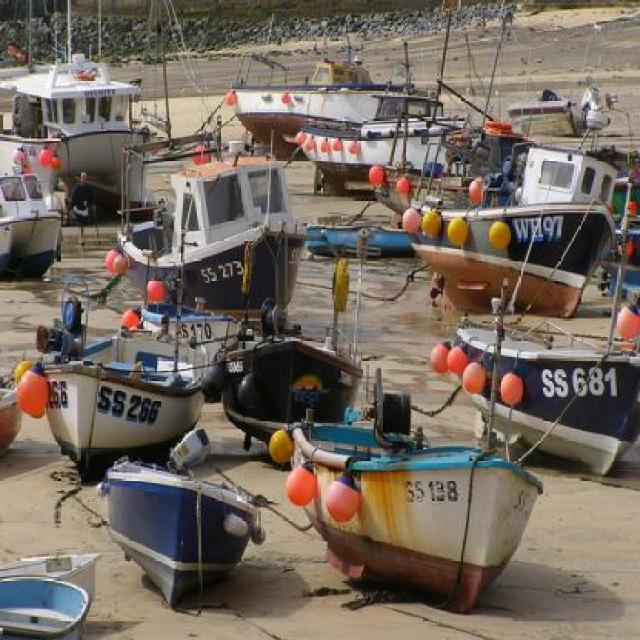ship: (283, 372, 545, 603), (101, 119, 333, 318), (372, 136, 616, 319), (432, 277, 636, 478), (22, 271, 209, 464), (215, 26, 458, 166), (101, 441, 264, 607), (209, 286, 369, 454), (0, 38, 152, 203), (291, 106, 520, 176), (0, 154, 80, 300)
